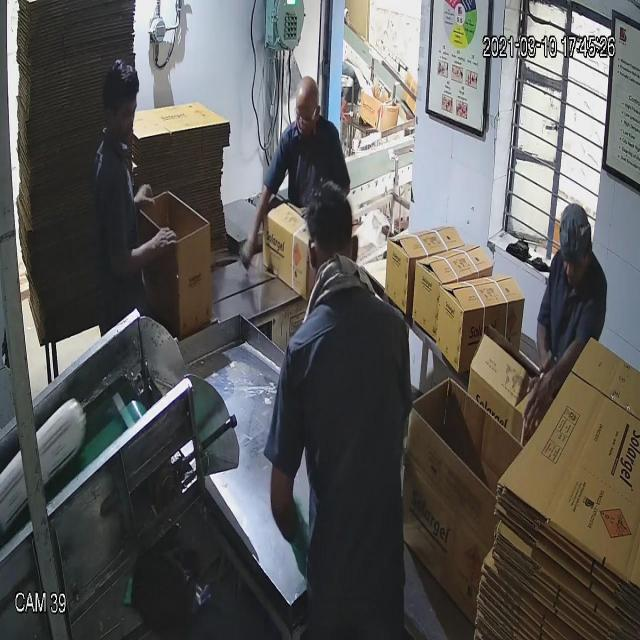No_Gloves: (54, 50, 556, 398)
